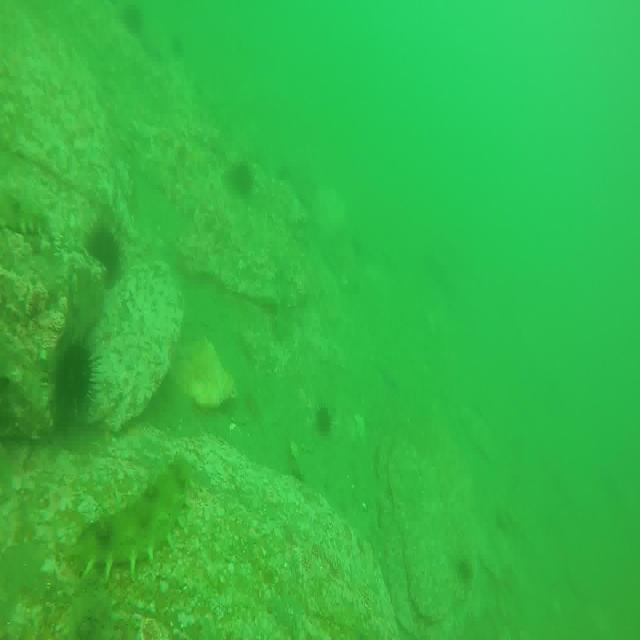echinus: (53, 336, 94, 412), (88, 223, 118, 287), (228, 162, 249, 203), (314, 399, 331, 439), (455, 558, 472, 584)
holothurian: (72, 456, 195, 585), (0, 185, 47, 239)
